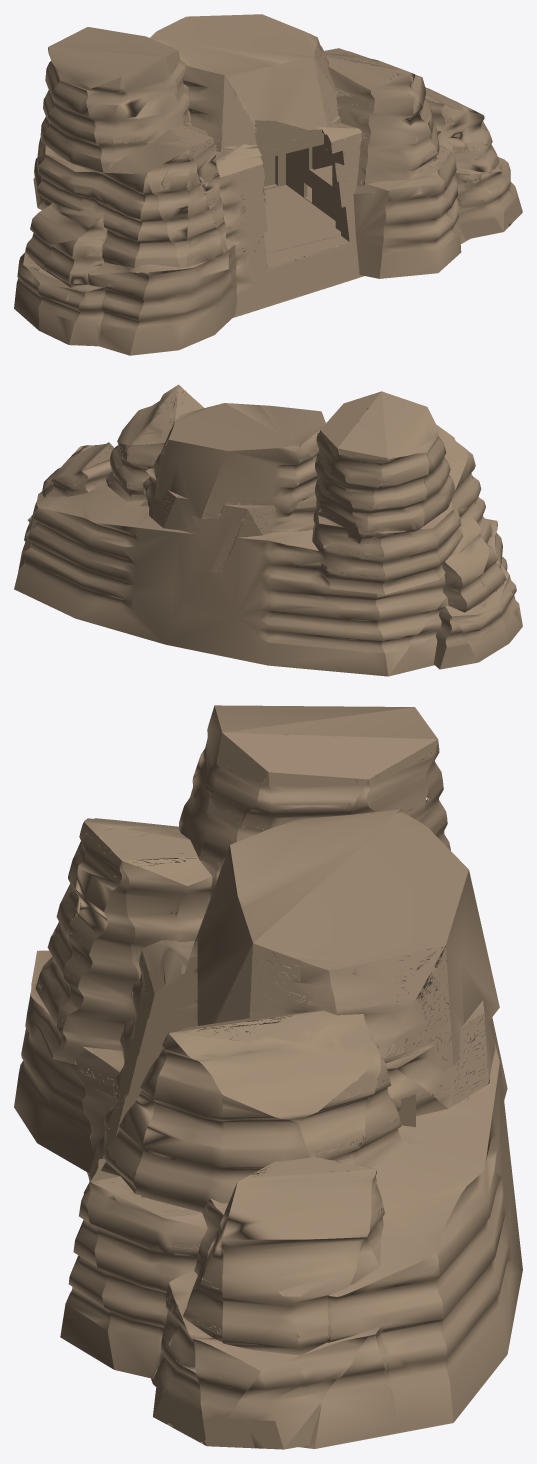
File: mountain-distant-v001.glb
3 views of the same model, one above another, from view 1: azimuth 30°, elevation 25°; view 2: azimuth 150°, elevation 25°; view 3: azimuth 270°, elevation 25° (orthographic). The views are drawn at different scales.
Parts seen in each view (by area): view 1: mountain-sandstone-low; view 2: mountain-sandstone-low; view 3: mountain-sandstone-low.
Part boxes in pixels (<box>): mountain-sandstone-low: <box>14,14,522,355</box>; mountain-sandstone-low: <box>14,384,522,676</box>; mountain-sandstone-low: <box>14,705,522,1449</box>.
Bounding box in the file's own units: 127 × 59.62 × 66.
